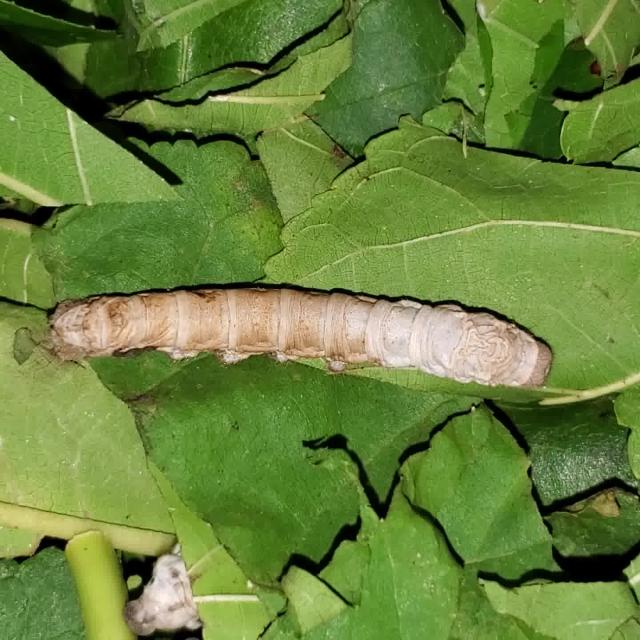Grasserie: (42, 264, 557, 406)
